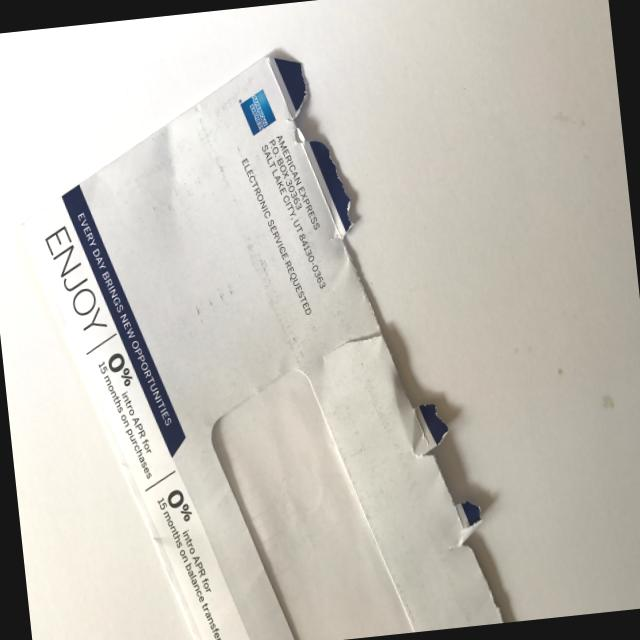Paper: (2, 3, 525, 640)
